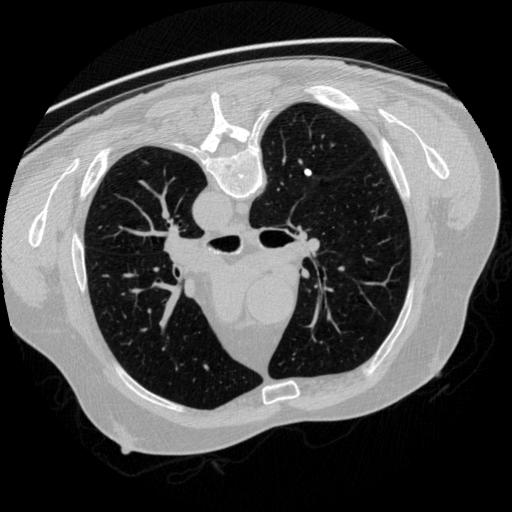nodule: (302, 166, 316, 180)
